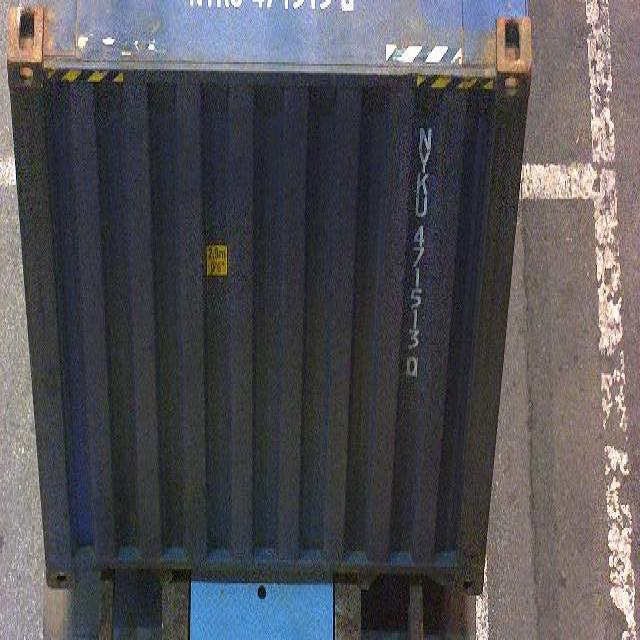container_number: (408, 116, 436, 382)
